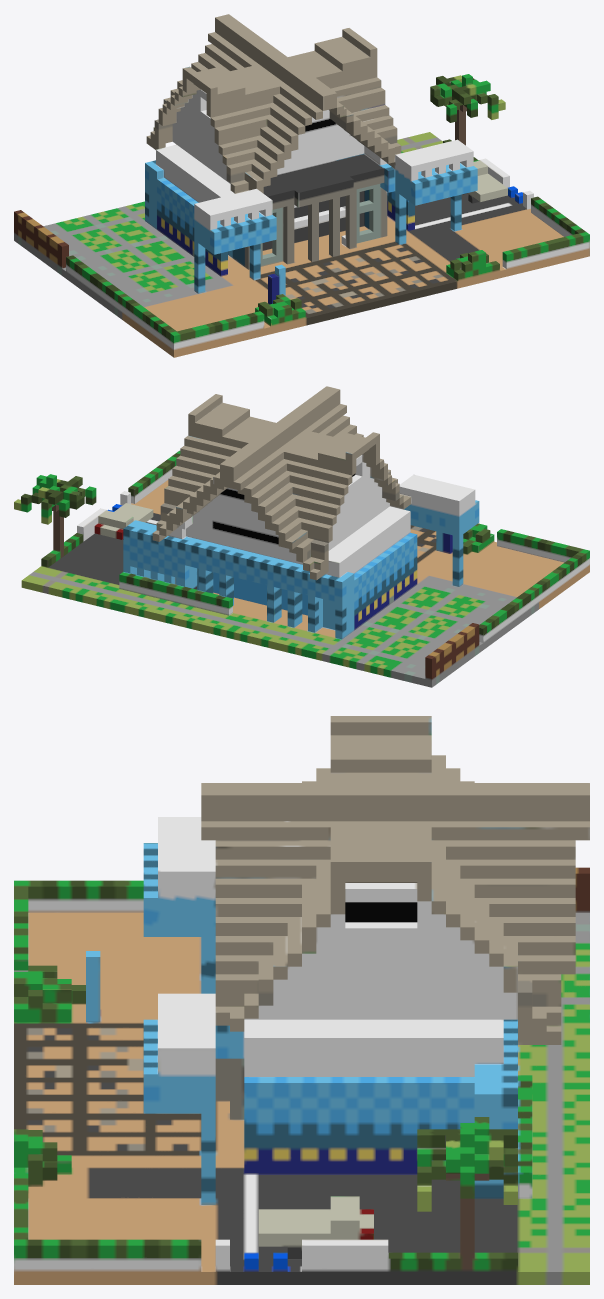
File: kagoshimasuizokukan.glb
The picture shows the model from 3 angles, top to bottom: view 1: azimuth 30°, elevation 25°; view 2: azimuth 150°, elevation 25°; view 3: azimuth 270°, elevation 25°; orthographic projection. The views are drawn at different scales.
Visible parts, largest first — view 1: kagoshimasuizokukan; view 2: kagoshimasuizokukan; view 3: kagoshimasuizokukan.
Boxes of the visible parts, x1,y1,x2,y2 form: kagoshimasuizokukan: (14,14,589,357); kagoshimasuizokukan: (14,386,589,687); kagoshimasuizokukan: (14,716,589,1284).
Bounding box in the file's own units: 1.28 × 0.48 × 0.8.
Materials: 1 (1 with a texture image).
